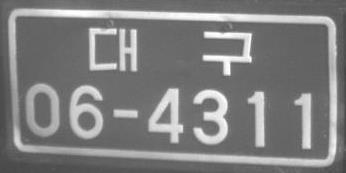0: (23, 81, 61, 138)
1: (287, 91, 324, 150), (241, 89, 276, 148)
3: (191, 88, 230, 145)
4: (147, 84, 184, 143)
6: (68, 84, 104, 140)
대구_D: (87, 24, 252, 76)
